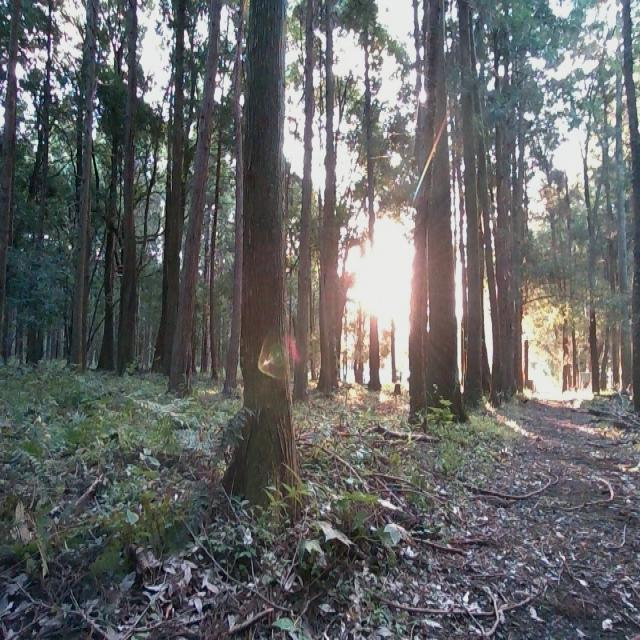tree: (218, 0, 297, 507), (152, 0, 220, 386), (405, 0, 457, 423), (493, 0, 528, 408), (65, 0, 101, 371), (110, 0, 143, 376), (611, 0, 640, 392), (460, 0, 487, 410), (321, 0, 342, 392), (363, 0, 383, 395), (586, 90, 602, 396)
